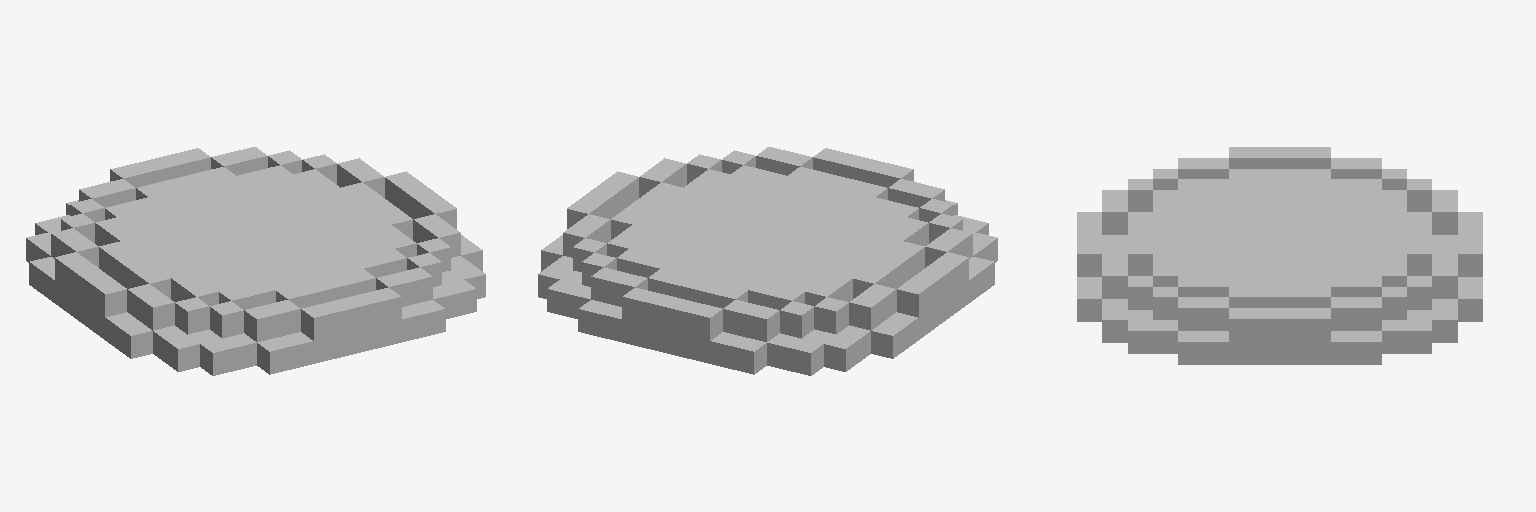
The model's file is Button Pressed.obj.
The picture shows the model from 3 angles: view 1: azimuth 30°, elevation 25°; view 2: azimuth 150°, elevation 25°; view 3: azimuth 270°, elevation 25°; orthographic projection.
Visible parts, largest first — view 1: object 1; view 2: object 1; view 3: object 1.
Boxes of the visible parts, x1,y1,x2,y2 form: object 1: [26, 147, 485, 375]; object 1: [538, 147, 997, 375]; object 1: [1077, 147, 1482, 364].
Bounding box in the file's own units: 1.6 × 0.2 × 1.6.